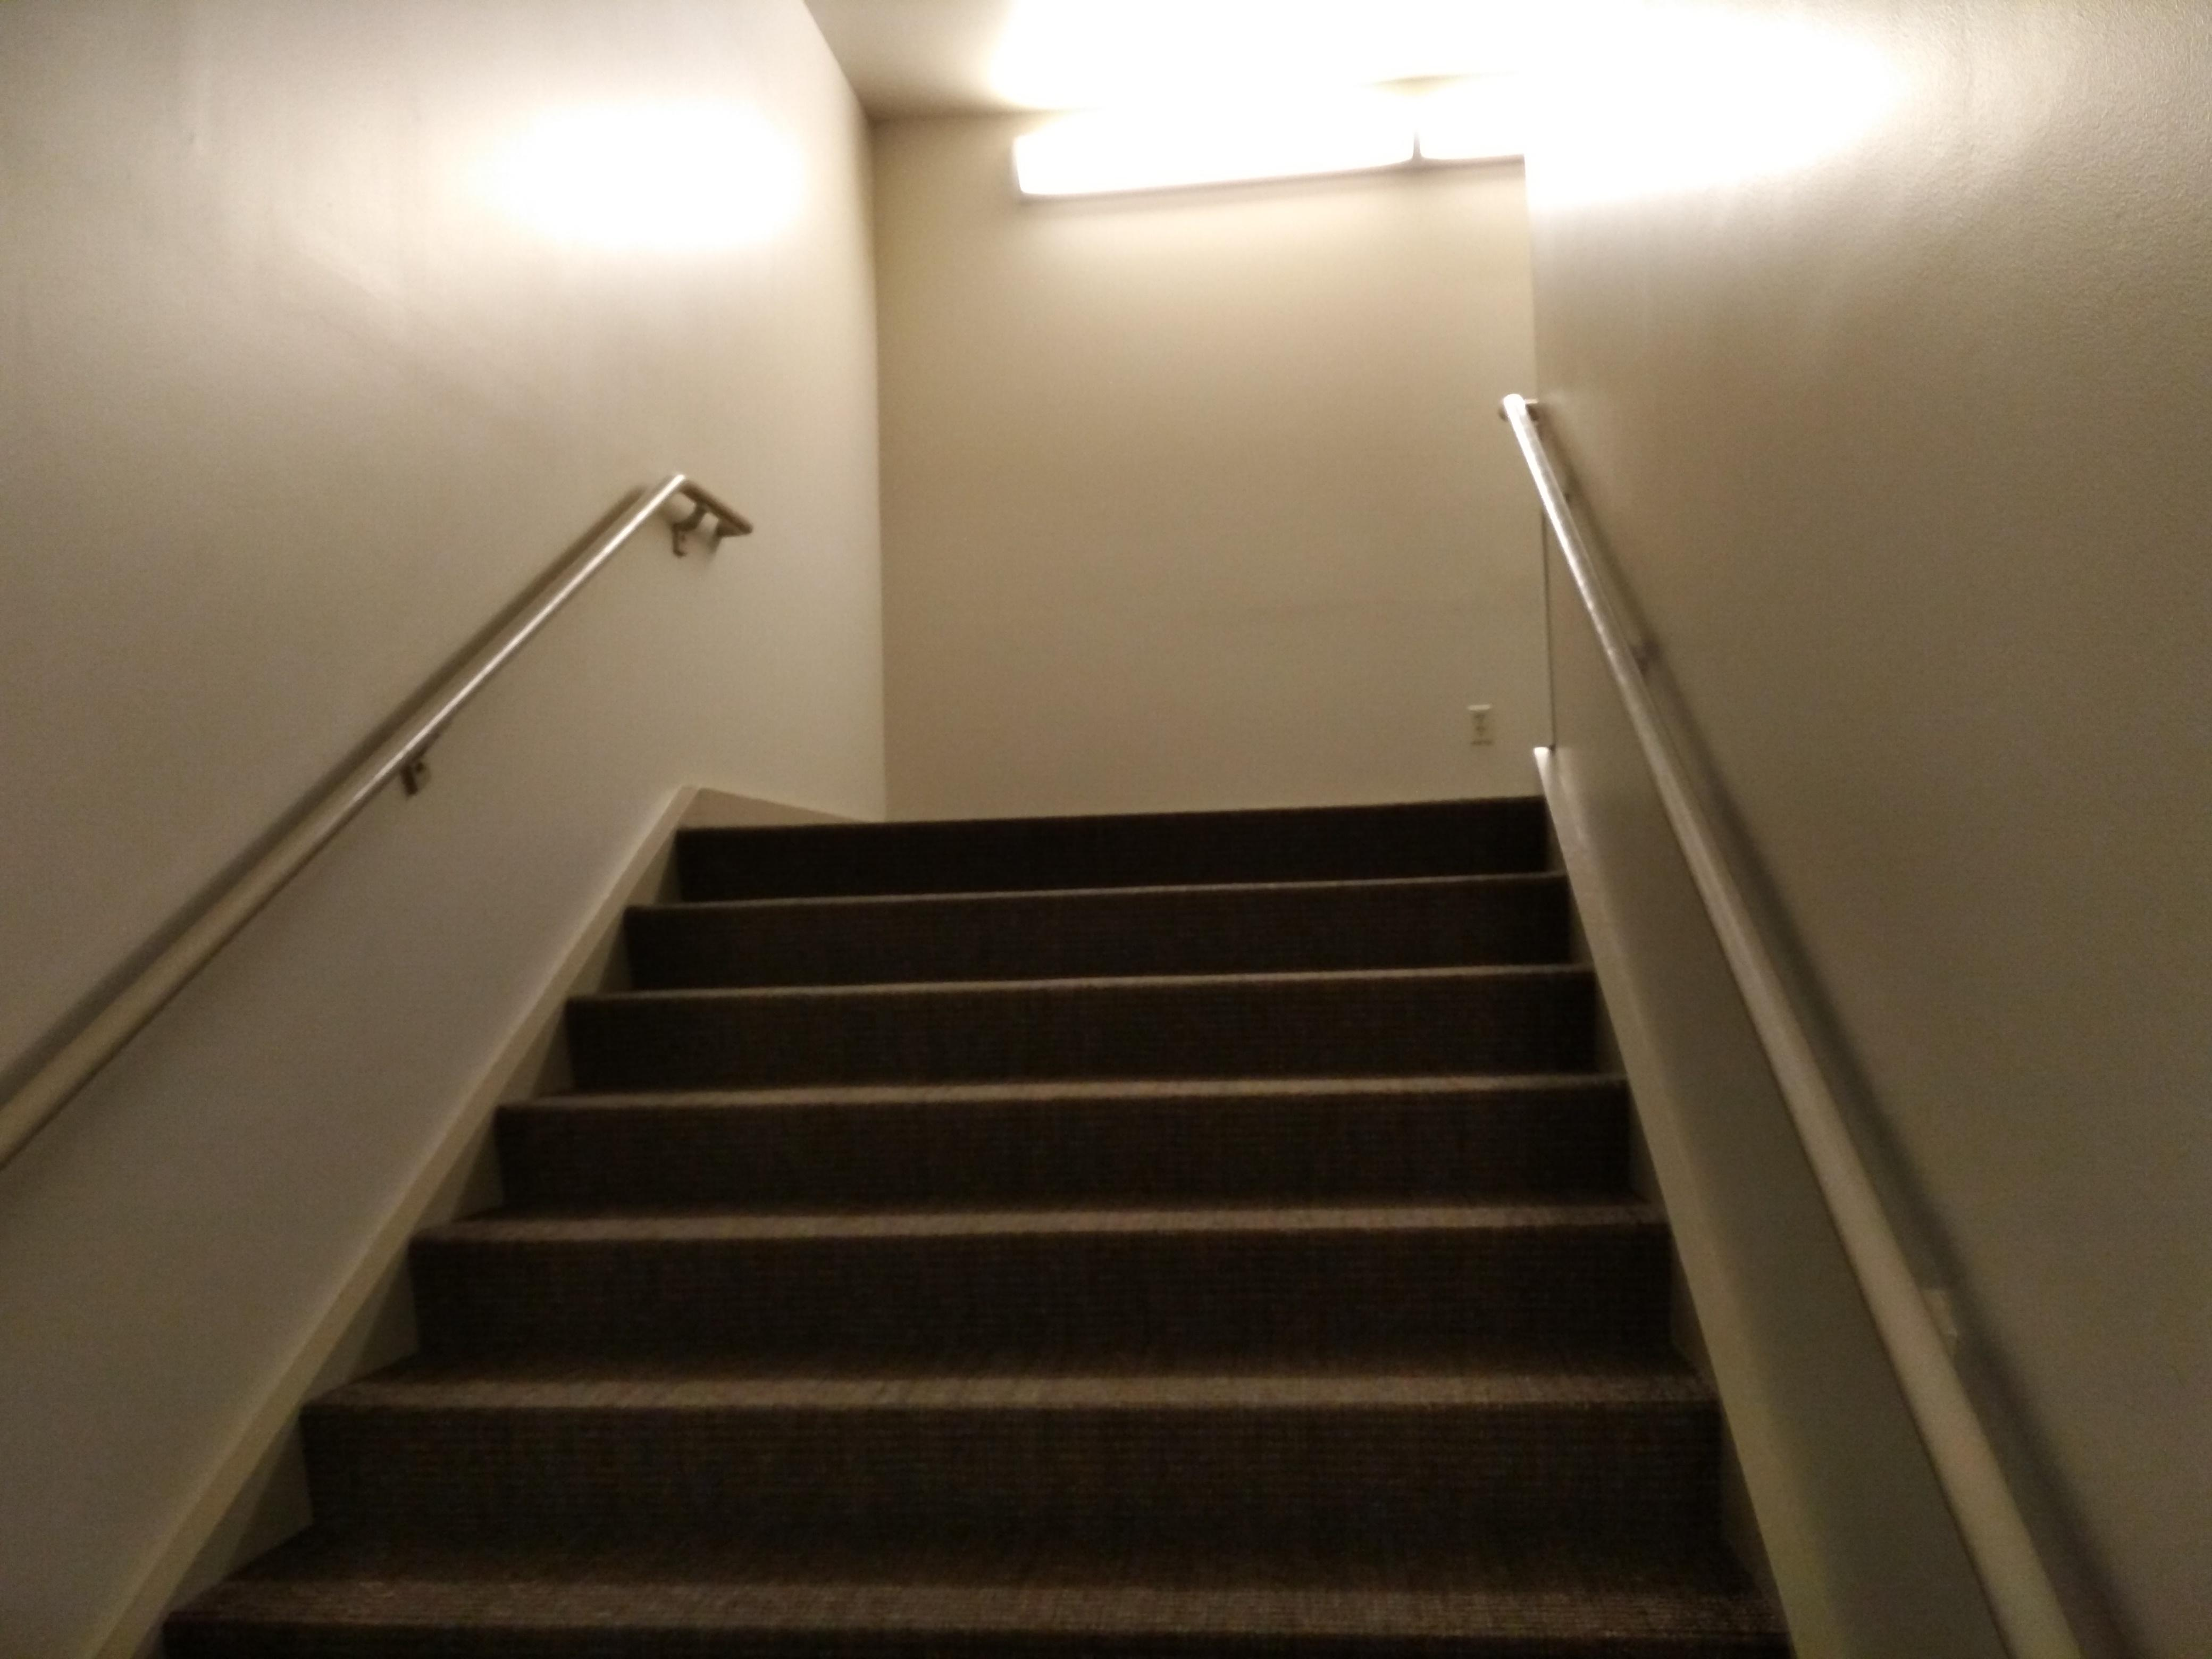stairs_up: (298, 826, 1754, 1471)
